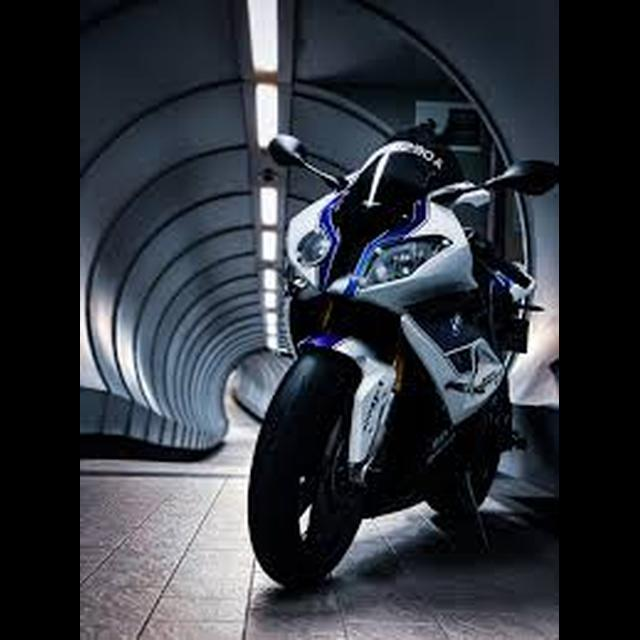motorcycle: (243, 111, 561, 599)
